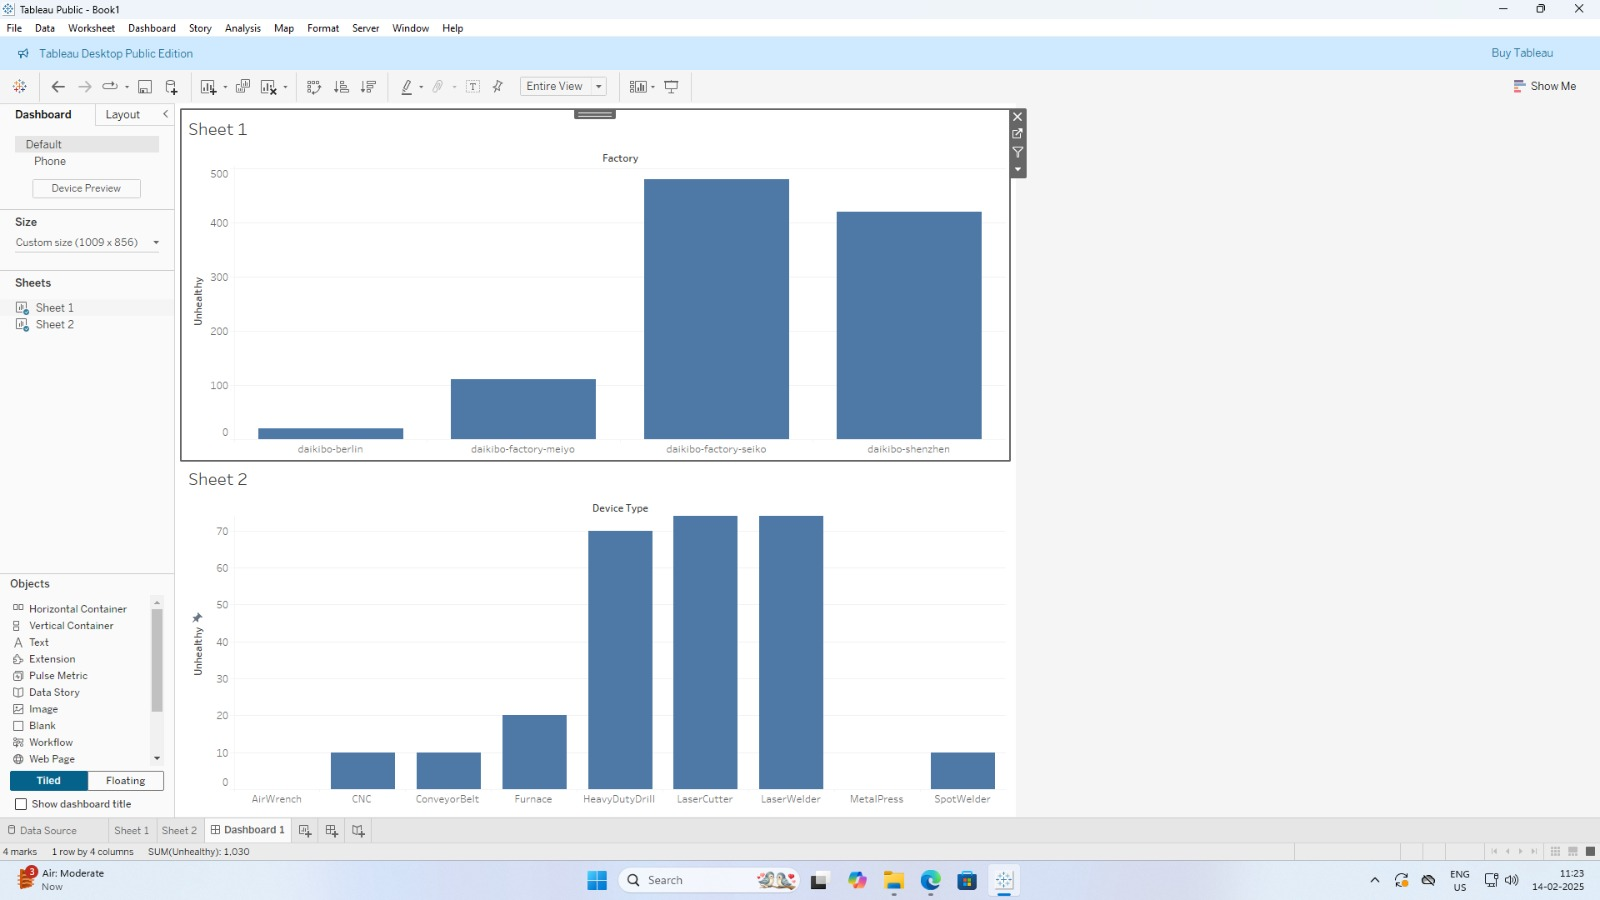

What the dashboard file says about the page in this screenshot:
{"tool":"tableau","page":{"name":"Dashboard 1","canvas":[1009,856],"ordinal":0},"visuals":[{"type":"worksheet","title":"Sheet 1","mark":"Automatic","rows":["Calculation_353532617681727489"],"cols":["factory"],"box":[8,8,993,420]},{"type":"worksheet","title":"Sheet 2","mark":"Automatic","rows":["Calculation_353532617681727489"],"cols":["deviceType"],"box":[8,428,993,420]}]}

Visuals, with their boxes on the page's 1009x856 design canvas (x1, y1, x2, y2). These are canvas units, not pixel positions in the 1600x900 screenshot, which may show the page scaled, cropped or inside an application window:
"Sheet 1" worksheet: <bbox>8, 8, 1001, 428</bbox>
"Sheet 2" worksheet: <bbox>8, 428, 1001, 848</bbox>
